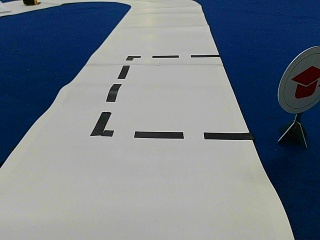school: (279, 46, 318, 111)
